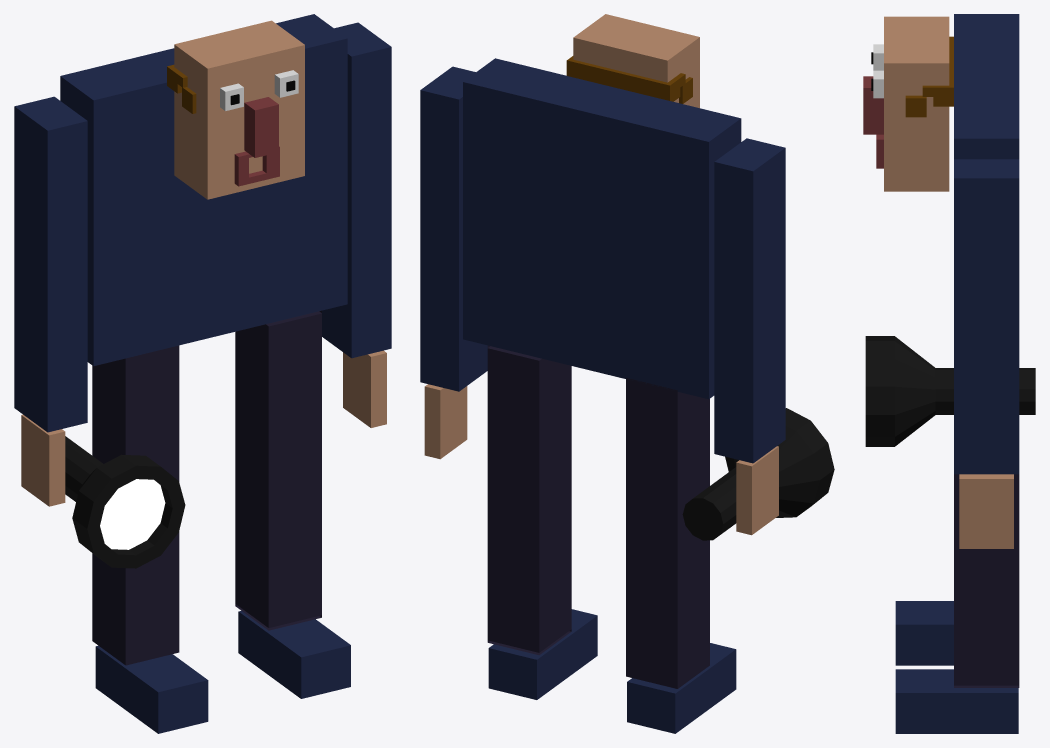
The model's file is Man.glb.
3 views of the same model, side by side, from view 1: azimuth 30°, elevation 25°; view 2: azimuth 150°, elevation 25°; view 3: azimuth 270°, elevation 25° (orthographic). The views are drawn at different scales.
Parts seen in each view (by area): view 1: Cube, Cube.006, Cube.003, Cube.007, Cube.001, Cube.002, Cylinder, Cube.009, Cube.008, Cube.005, Cube.004, Cube.010 (+1 smaller); view 2: Cube, Cube.006, Cube.007, Cube.003, Cube.002, Cylinder, Cube.001, Cube.008, Cube.009, Cube.005, Cube.004, Cube.013; view 3: Cube.002, Cube.001, Cube.006, Cube, Cylinder, Cube.008, Cube.004, Cube.009, Cube.010, Cube.013, Cube.014, Cube.011.
Part boxes in pixels (<box>): Cube: <box>60,14,347,366</box>; Cube.006: <box>235,310,321,630</box>; Cube.003: <box>14,96,87,432</box>; Cube.007: <box>92,345,179,665</box>; Cube.001: <box>174,20,304,199</box>; Cube.002: <box>322,22,391,358</box>; Cylinder: <box>65,436,185,568</box>; Cube.009: <box>95,645,208,733</box>; Cube.008: <box>238,611,350,698</box>; Cube.005: <box>21,414,65,506</box>; Cube.004: <box>343,350,386,427</box>; Cube.010: <box>244,97,278,157</box>; Cube: <box>463,58,741,399</box>; Cube.006: <box>487,345,571,655</box>; Cube.007: <box>626,378,709,688</box>; Cube.003: <box>714,138,785,463</box>; Cube.002: <box>420,66,487,391</box>; Cylinder: <box>682,408,834,540</box>; Cube.001: <box>573,14,699,108</box>; Cube.008: <box>488,609,597,699</box>; Cube.009: <box>627,643,736,733</box>; Cube.005: <box>736,446,778,535</box>; Cube.004: <box>424,384,467,459</box>; Cube.013: <box>566,56,685,101</box>; Cube.002: <box>954,159,1019,474</box>; Cube.001: <box>884,16,949,191</box>; Cube.006: <box>954,474,1019,687</box>; Cube: <box>954,17,1019,159</box>; Cylinder: <box>865,336,1035,446</box>; Cube.008: <box>895,669,1018,733</box>; Cube.004: <box>959,474,1013,548</box>; Cube.009: <box>895,601,953,665</box>; Cube.010: <box>863,76,883,134</box>; Cube.013: <box>922,36,953,106</box>; Cube.014: <box>905,95,926,117</box>; Cube.011: <box>873,70,883,98</box>.
Bounding box in the file's own units: 2.75 × 4.96 × 1.2.
